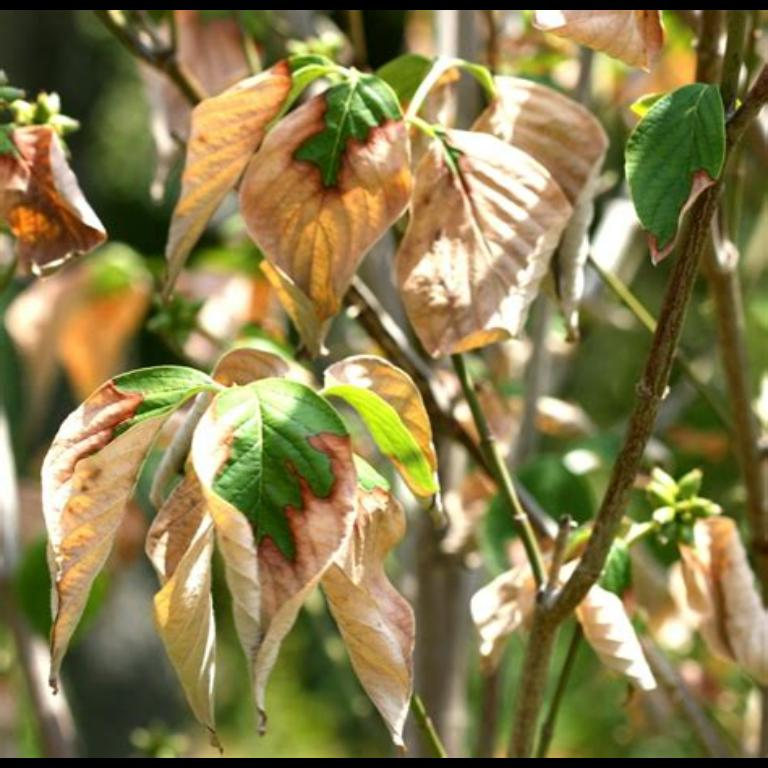blight: (204, 427, 354, 626), (294, 94, 396, 252)
